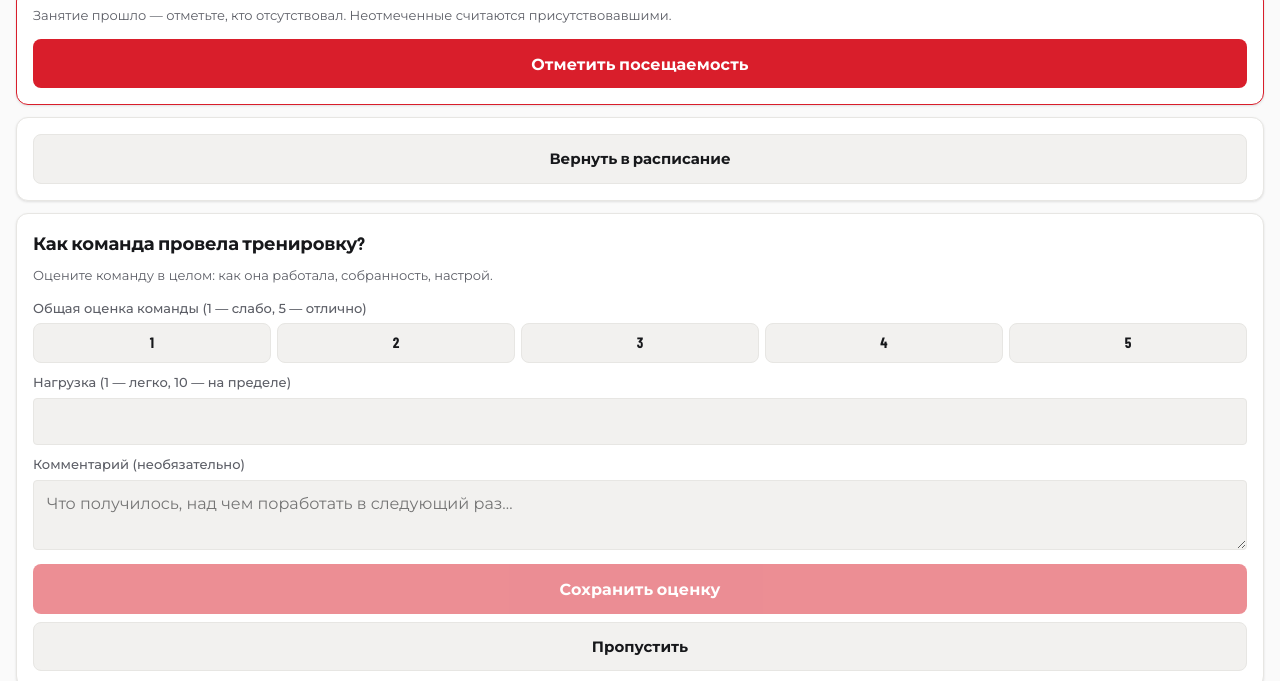
Test: after a team training is marked as held › lets the coach skip, and change their mind later
(page scrolled)
Click the button "Пропустить". click: (640, 646)
box: [33,622,1247,671]
(page scrolled)
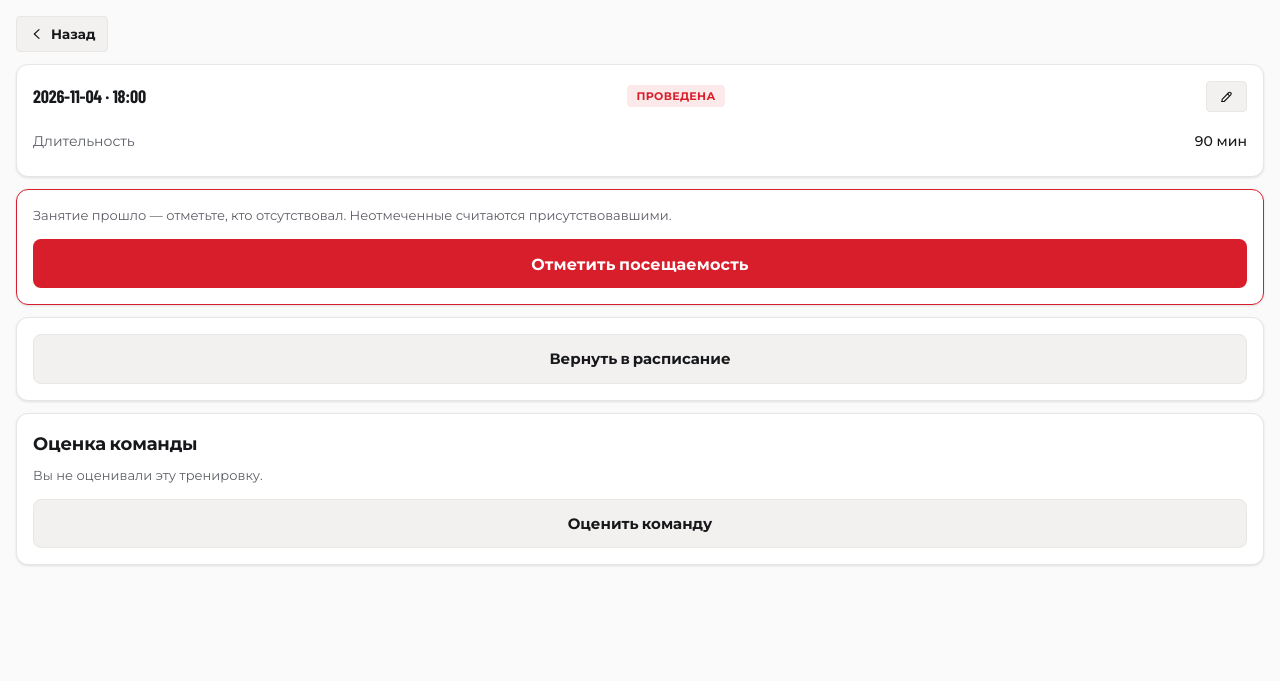
Expected: the text "Вы не оценивали эту тренировку." is shown, [33,467,263,483]
Click the button "Оценить команду". click: (640, 524)
box: [33,499,1247,548]
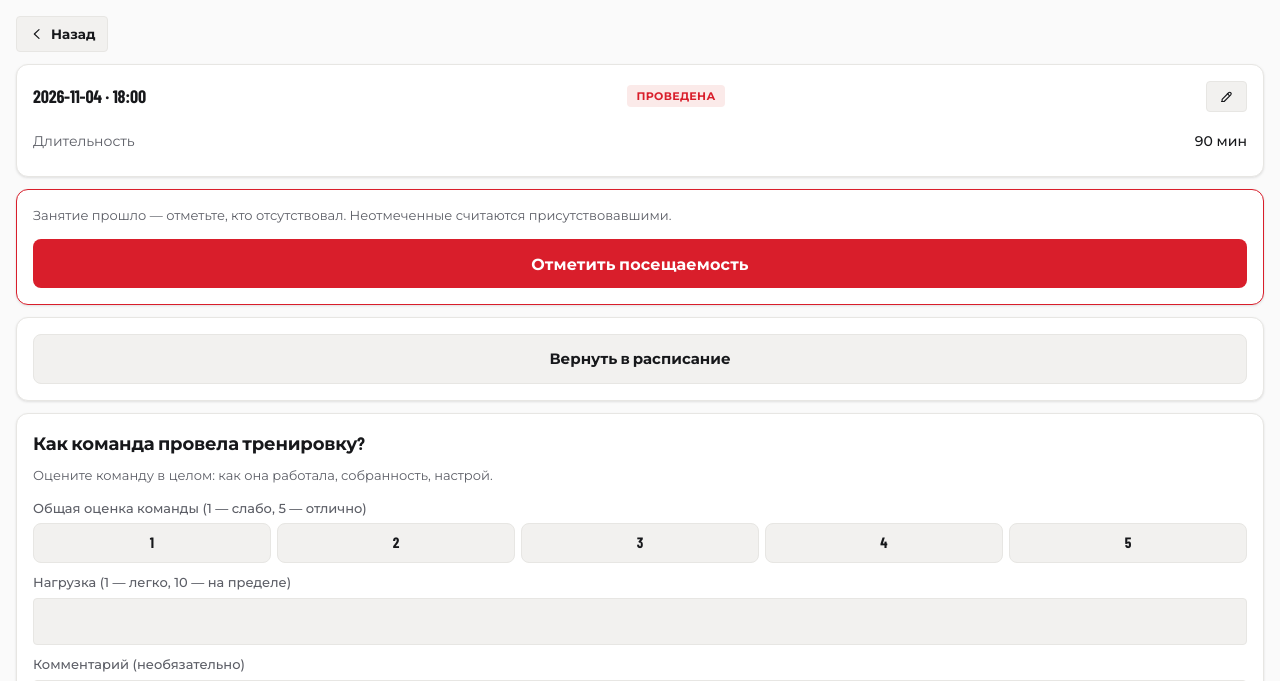
Expected: the heading "Как команда провела тренировку?" is shown, [33,432,365,454]
